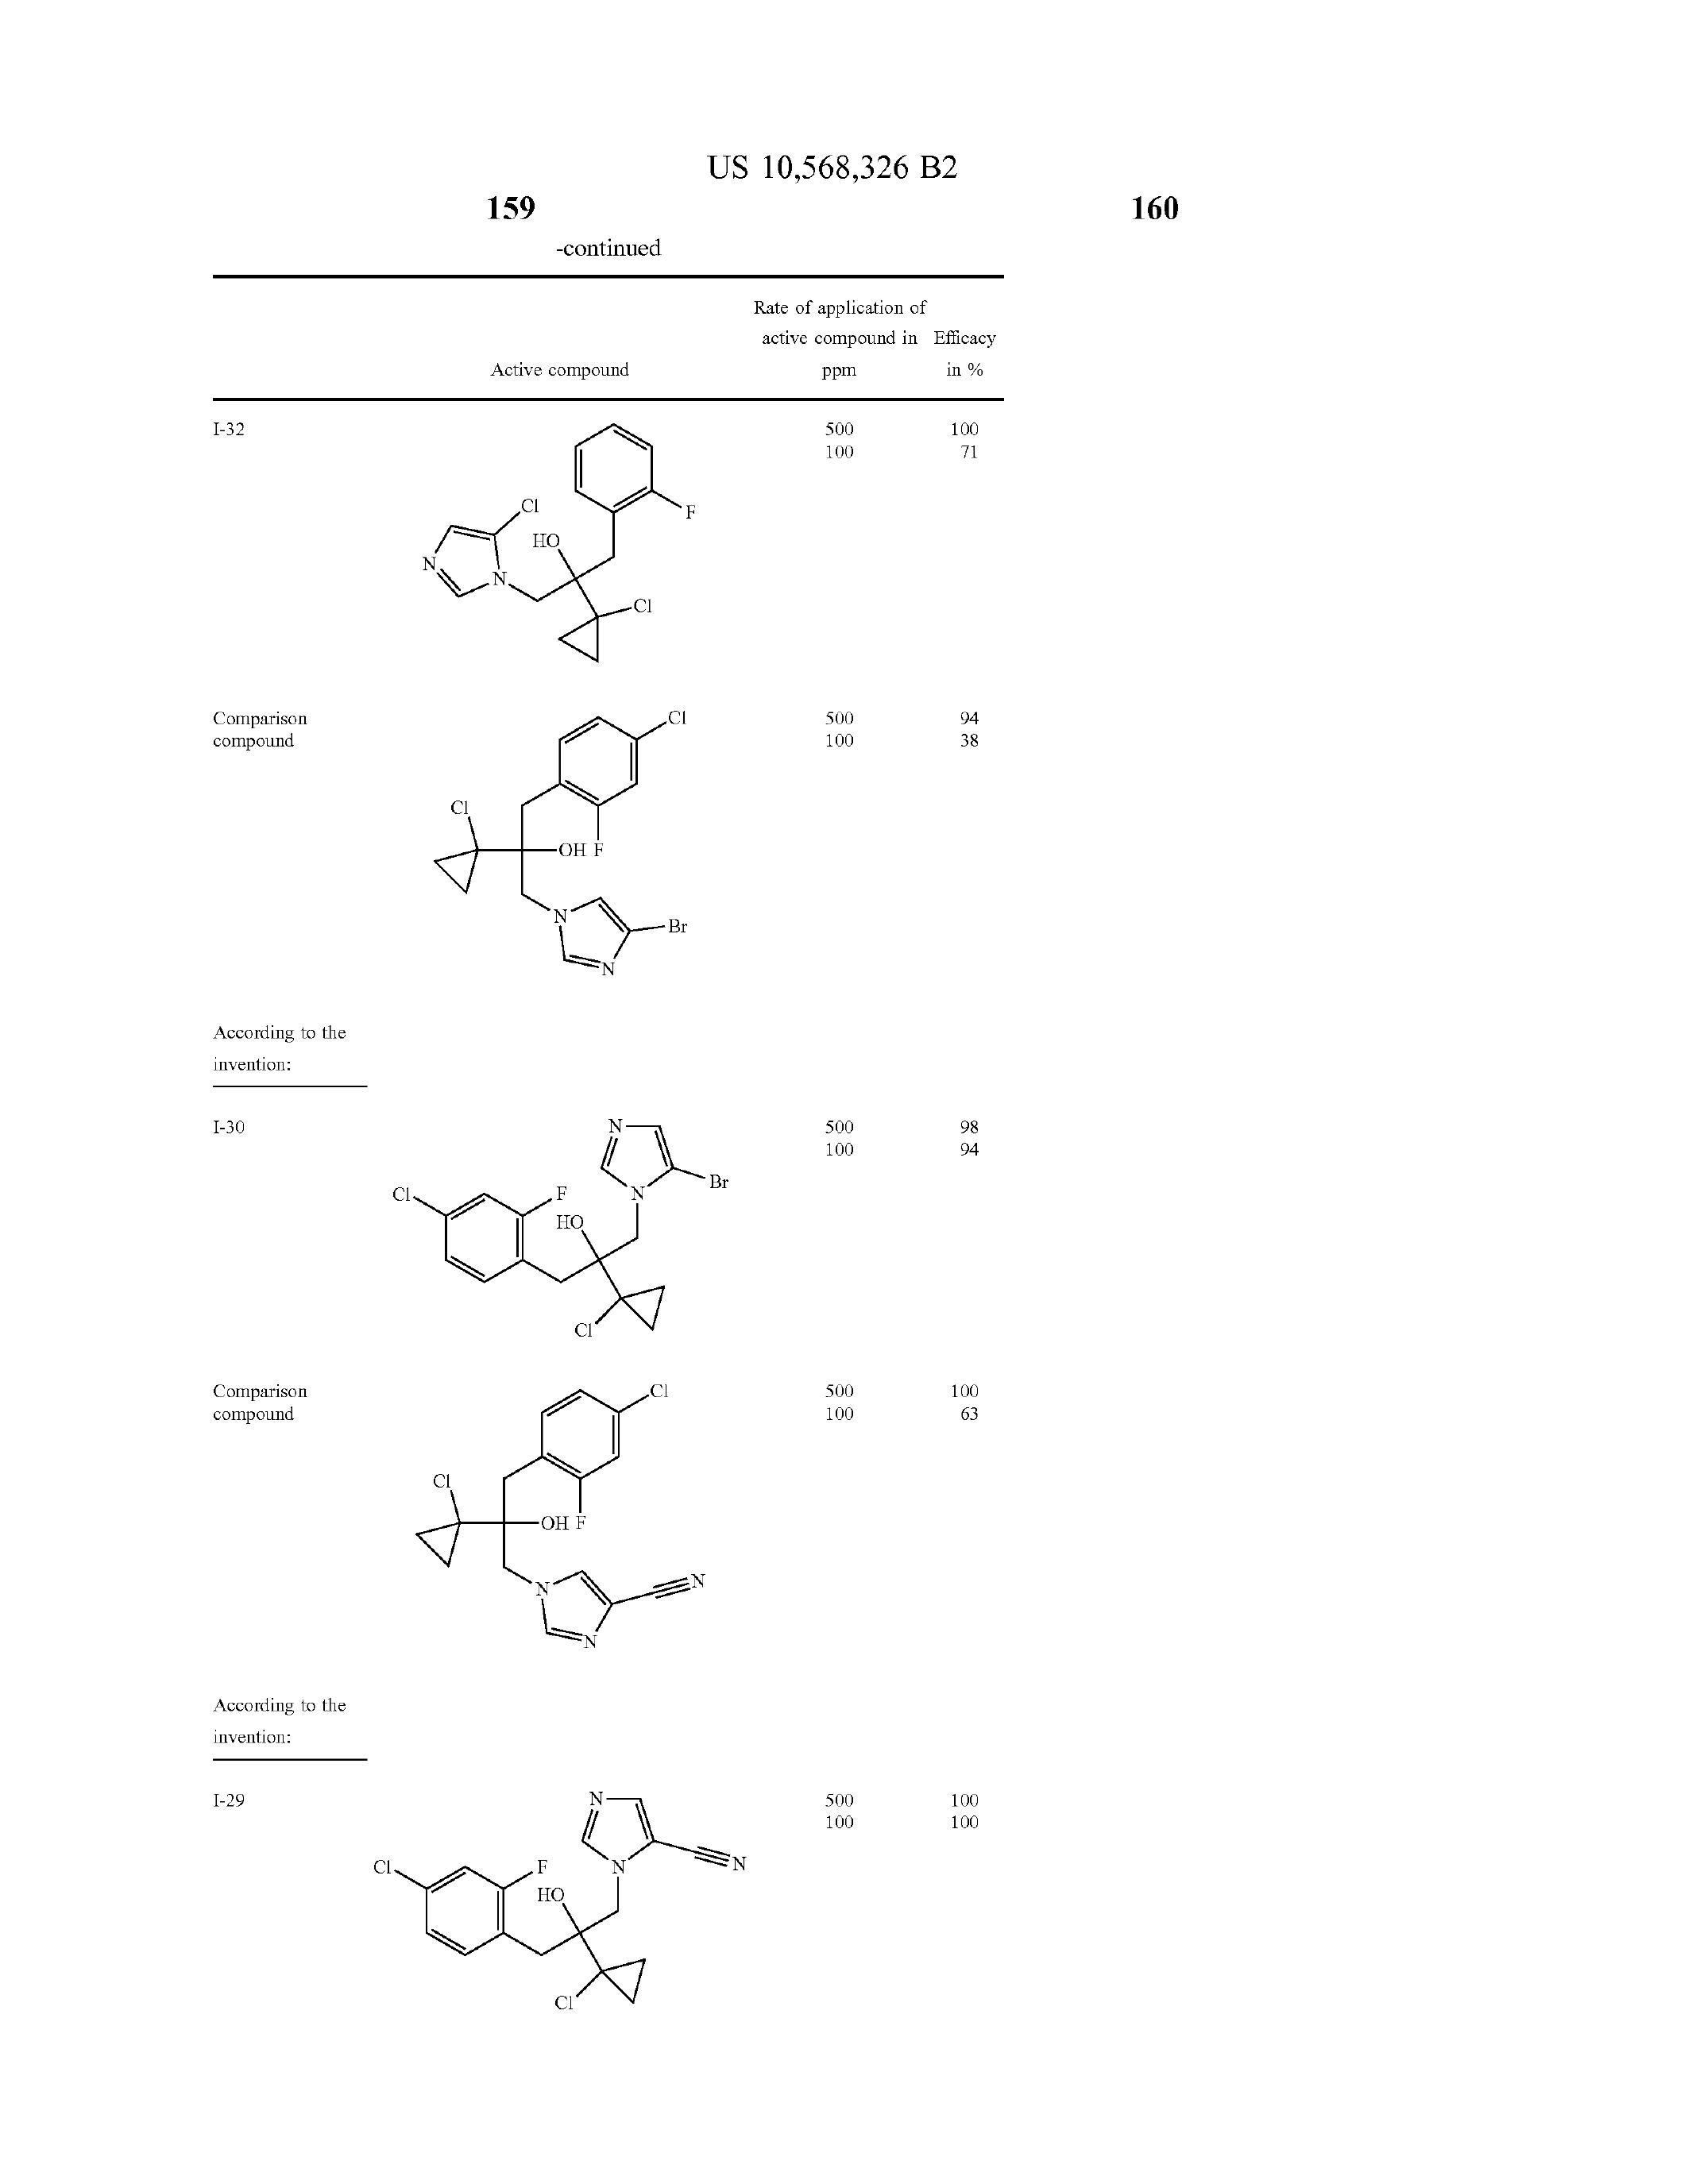relevant-structures: (351, 1780, 782, 2074), (344, 399, 770, 690), (387, 702, 787, 1010), (390, 1383, 745, 1727), (356, 1087, 771, 1356)
